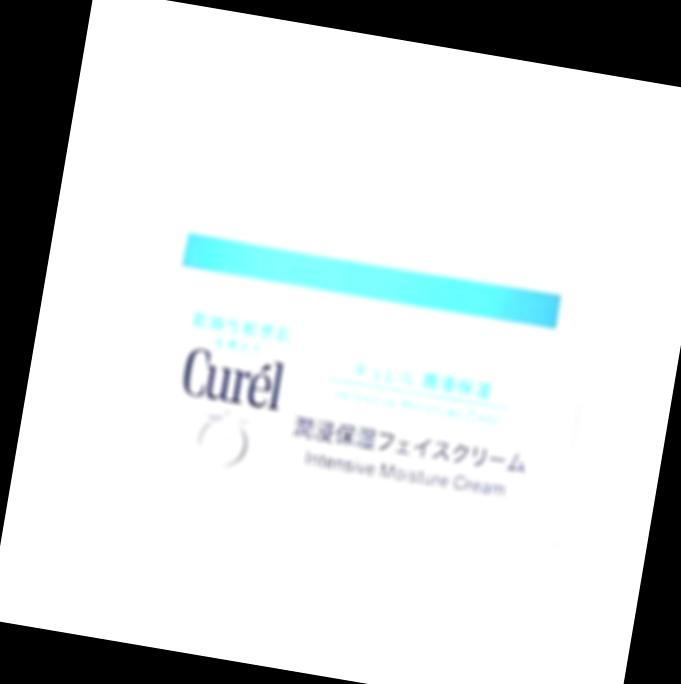cosmetic: (98, 137, 617, 550)
